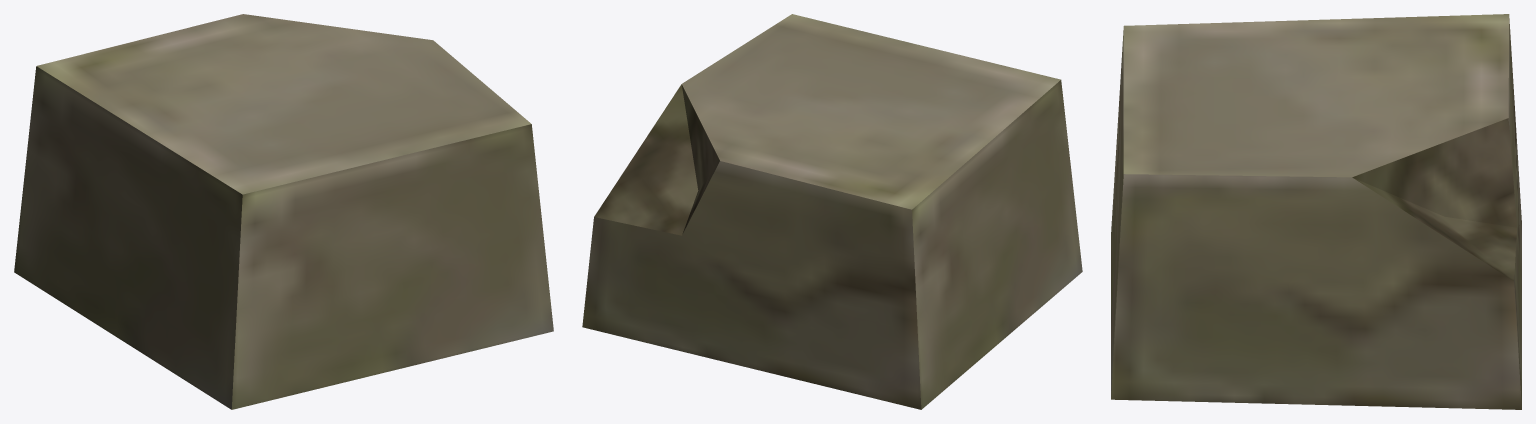
Rendered from DN_tushuguan_qiang_c.FBX.
3 renders of one model, left to right at view 1: azimuth 30°, elevation 25°; view 2: azimuth 150°, elevation 25°; view 3: azimuth 270°, elevation 25°, orthographic. The views are drawn at different scales.
Parts seen in each view (by area): view 1: DN_tushuguan_qiang_c; view 2: DN_tushuguan_qiang_c; view 3: DN_tushuguan_qiang_c.
Part boxes in pixels (x1,y1,x2,y2): DN_tushuguan_qiang_c: (14, 14, 553, 409); DN_tushuguan_qiang_c: (582, 14, 1082, 409); DN_tushuguan_qiang_c: (1111, 14, 1521, 409).
Size of the model in its own units: 61.94 by 33.89 by 57.56.
